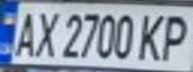0: (115, 10, 139, 61), (97, 9, 118, 60)
2: (60, 8, 84, 60)
7: (78, 8, 100, 60)
A: (9, 7, 42, 58)
K: (136, 9, 172, 62)
P: (154, 10, 193, 62)
X: (30, 7, 60, 58)
